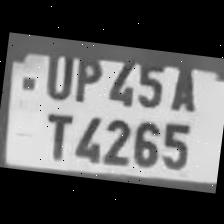2: (96, 110, 132, 165)
4: (102, 48, 140, 106), (68, 106, 106, 162)
5: (130, 52, 168, 109), (155, 116, 194, 170)
6: (126, 114, 163, 168)
A: (163, 57, 203, 114)
P: (68, 45, 106, 104)
T: (35, 104, 75, 160)
U: (39, 40, 78, 100)
